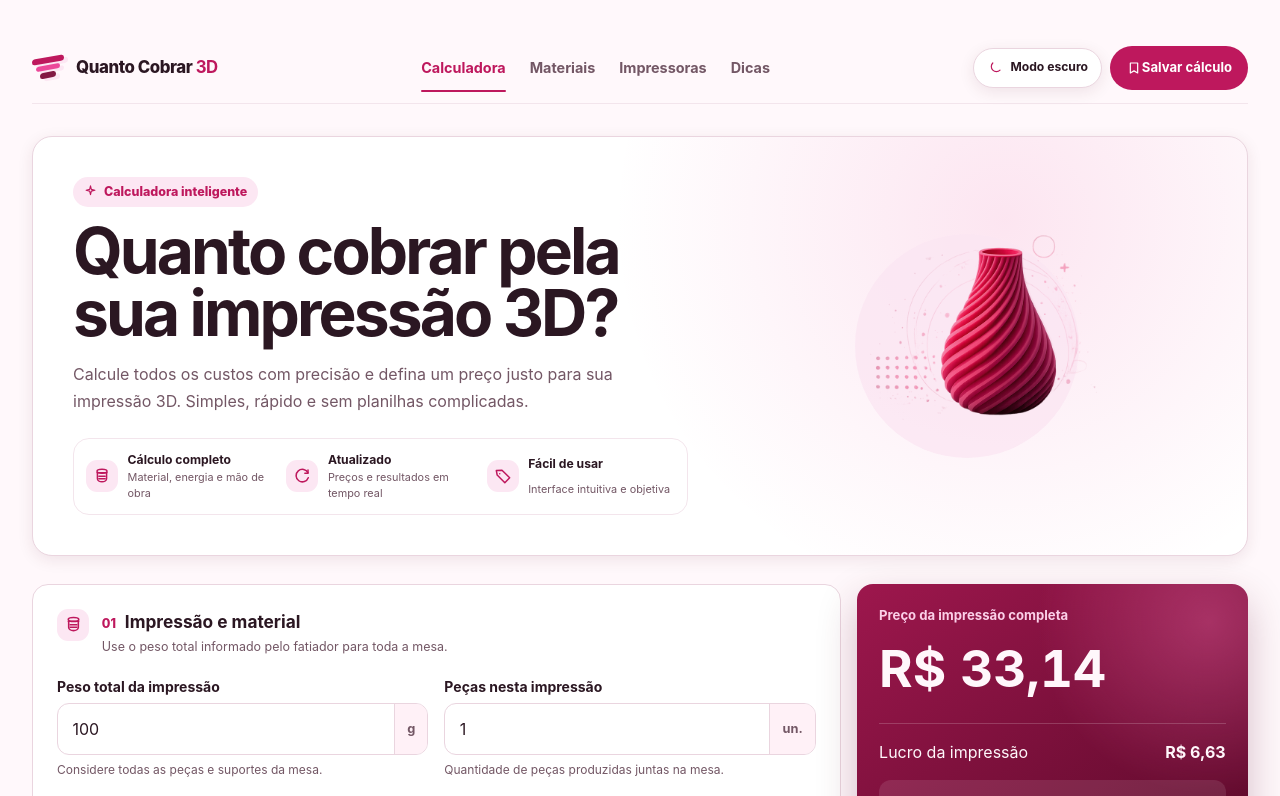
Test: CostCalculatorPage › exibe resultados e recalcula enquanto o usuário edita
Expected: the text "Preço da impressão completa" is shown, [879, 607, 1068, 623]
Replace the text in the field labelled "Peso total da impressão" with "200" at (226,729), box [58, 704, 394, 754]
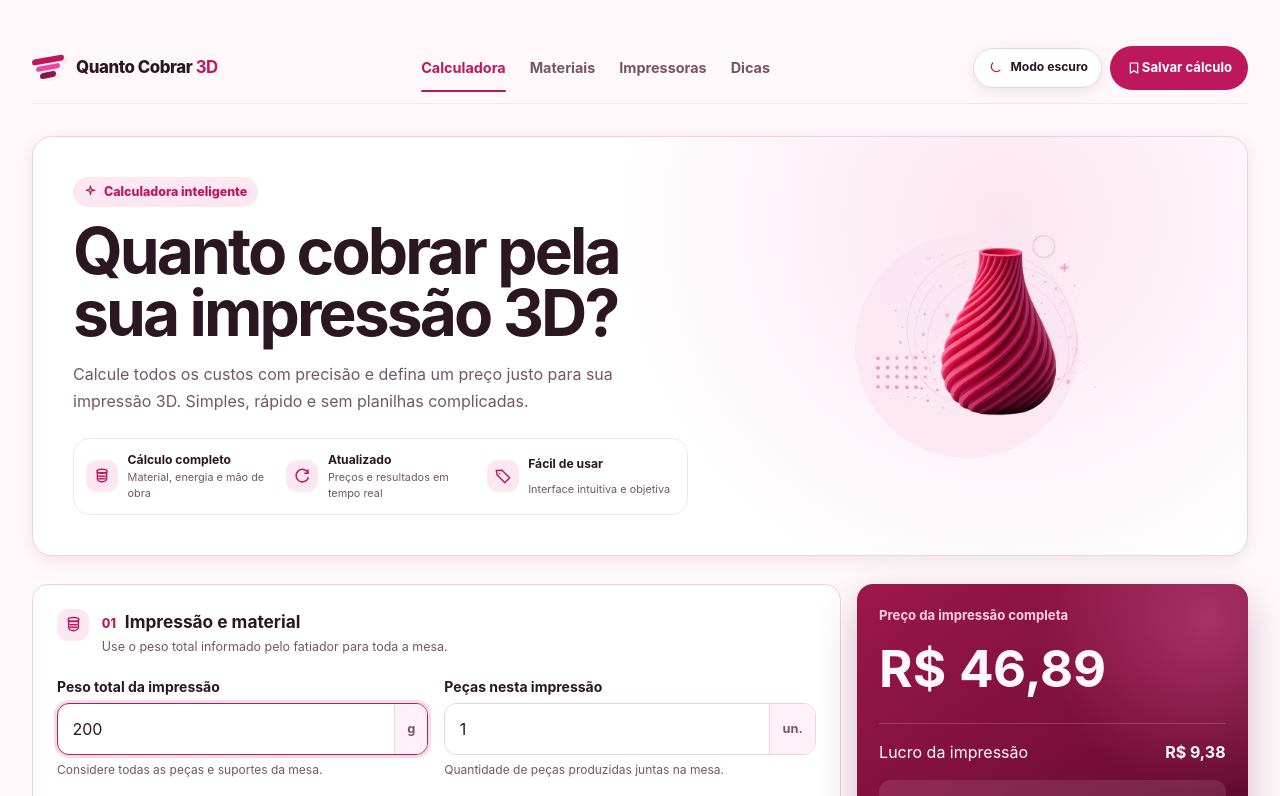
Now the heading "R$ 46,89" is shown, box [879, 637, 1106, 699]
